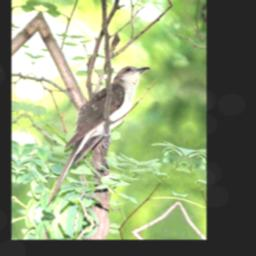Cuckoo: (45, 51, 150, 222)
